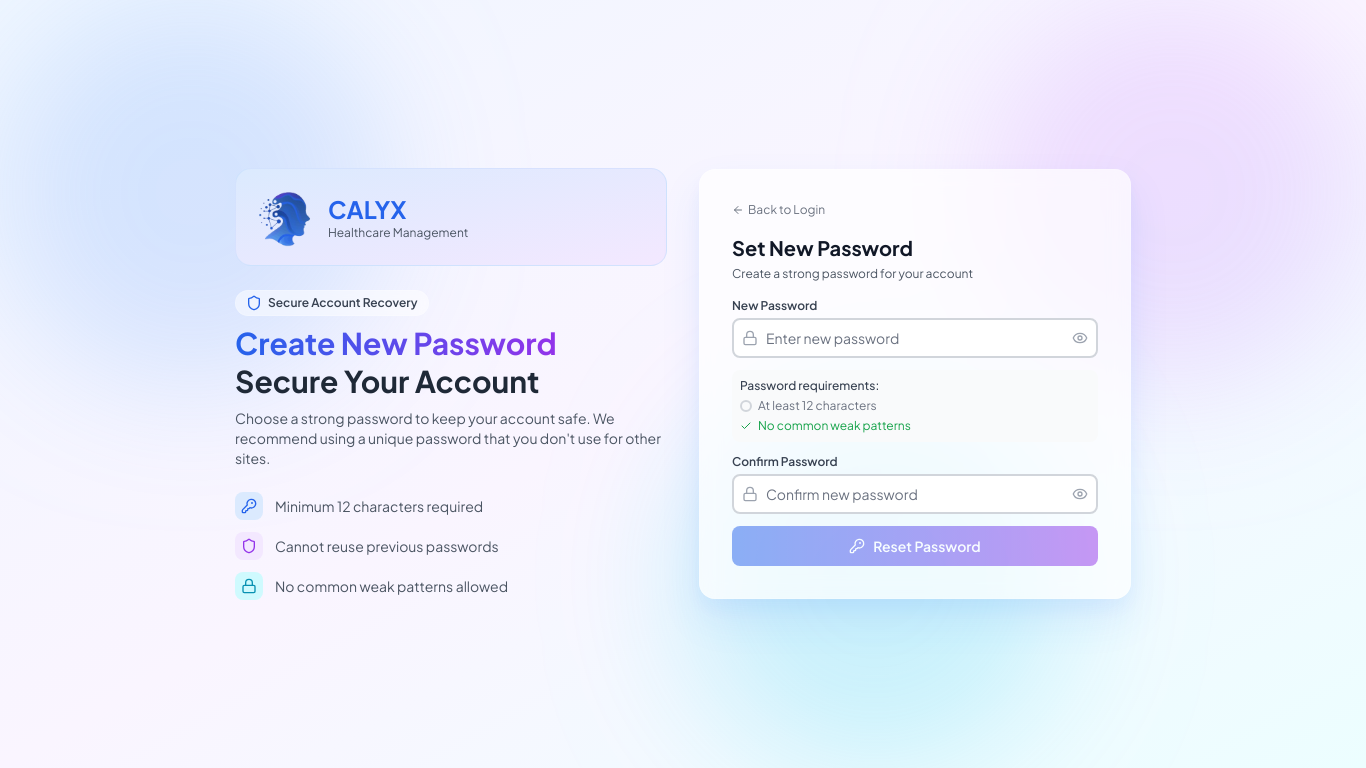
Test case: ResetPassword Page › shows error message on API failure
// Use password without weak patterns
Type "StrongPass!@#12" into the password field with placeholder "Enter new password" at (915, 338), box [732,318,1098,358]
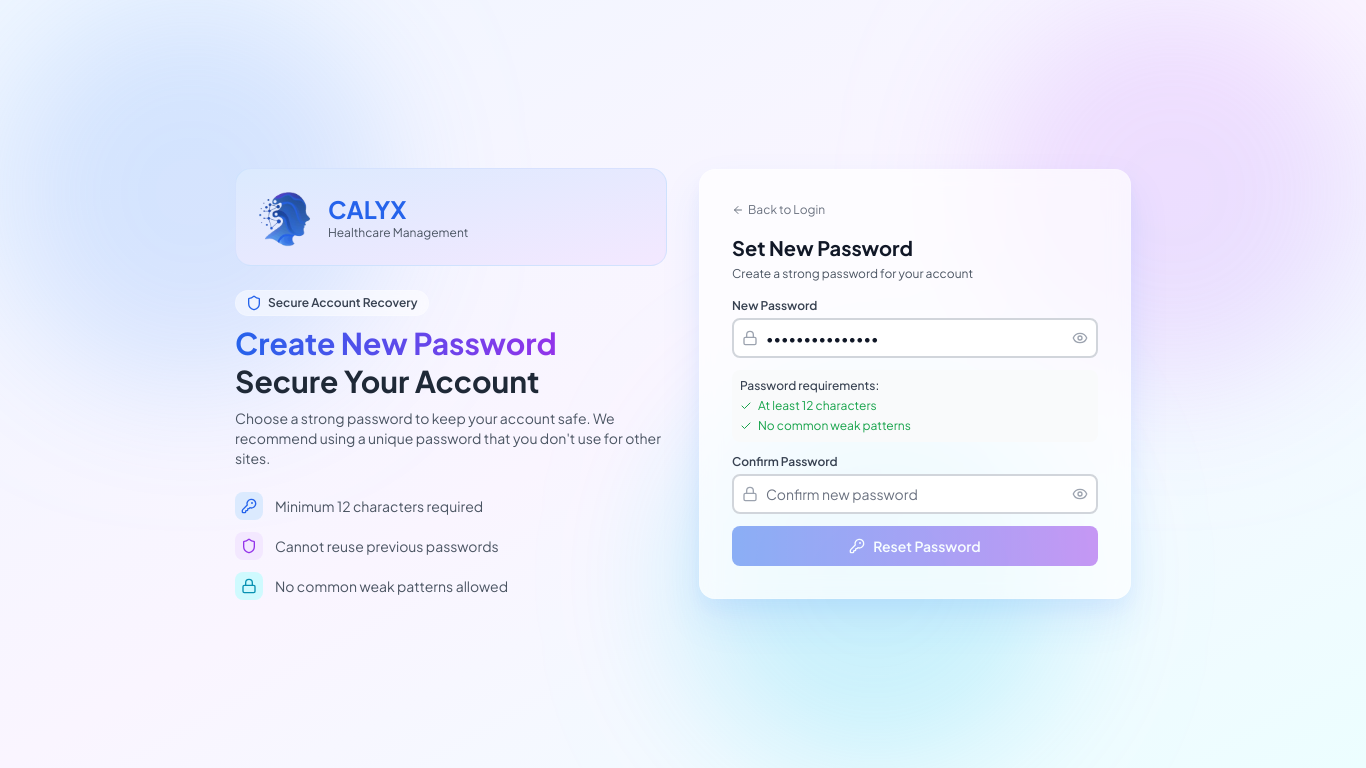
Type "StrongPass!@#12" into the password field with placeholder "Confirm new password" at (915, 494), box [732,474,1098,514]
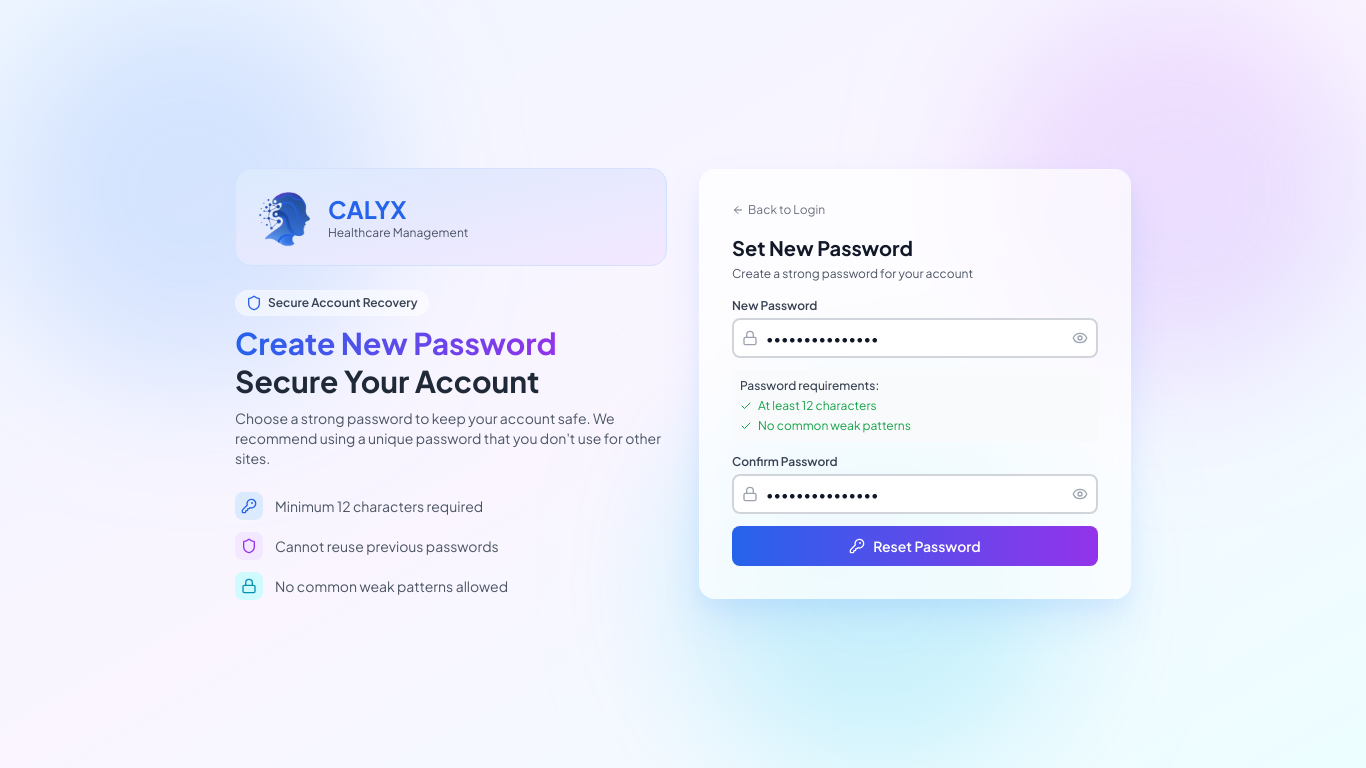
Click the button "Reset Password" at (915, 546), box [732,526,1098,566]
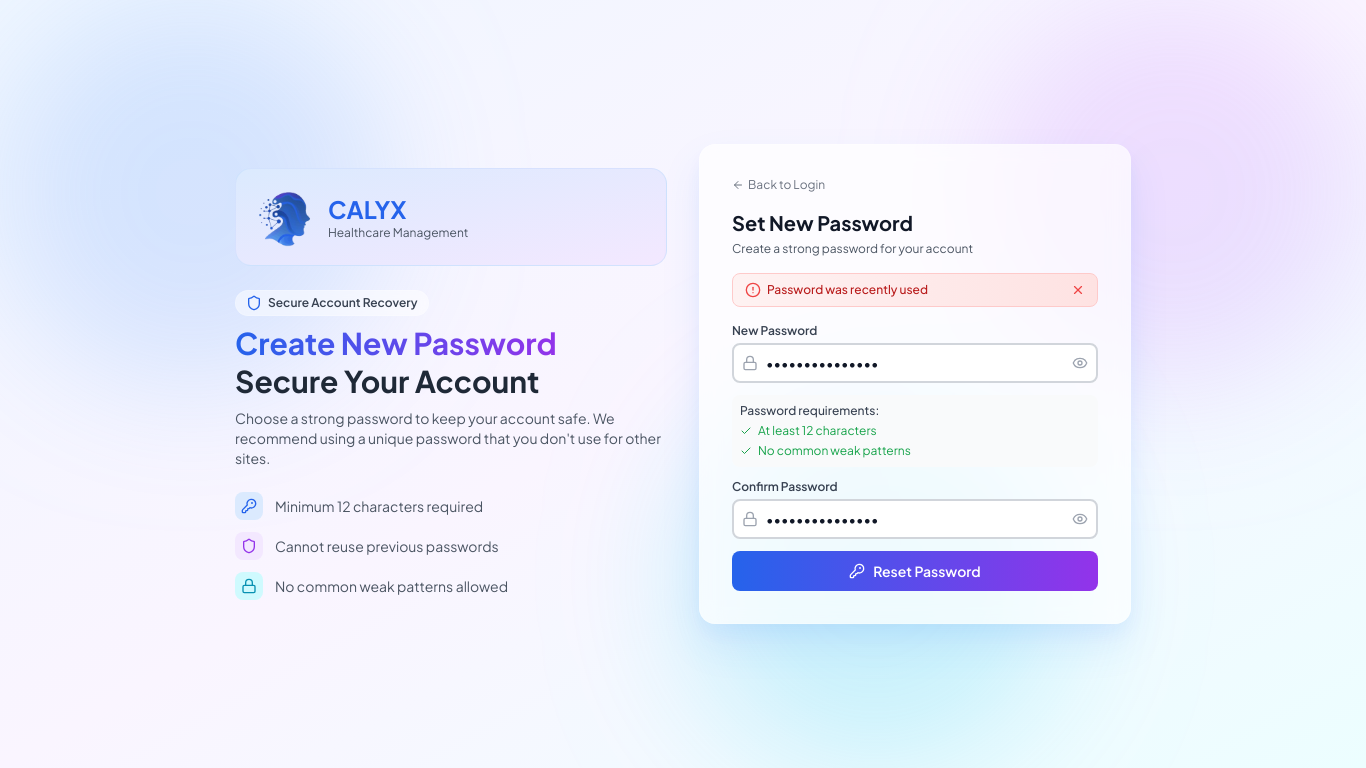
Now the text "Password was recently used" is shown, box [767,282,928,298]
